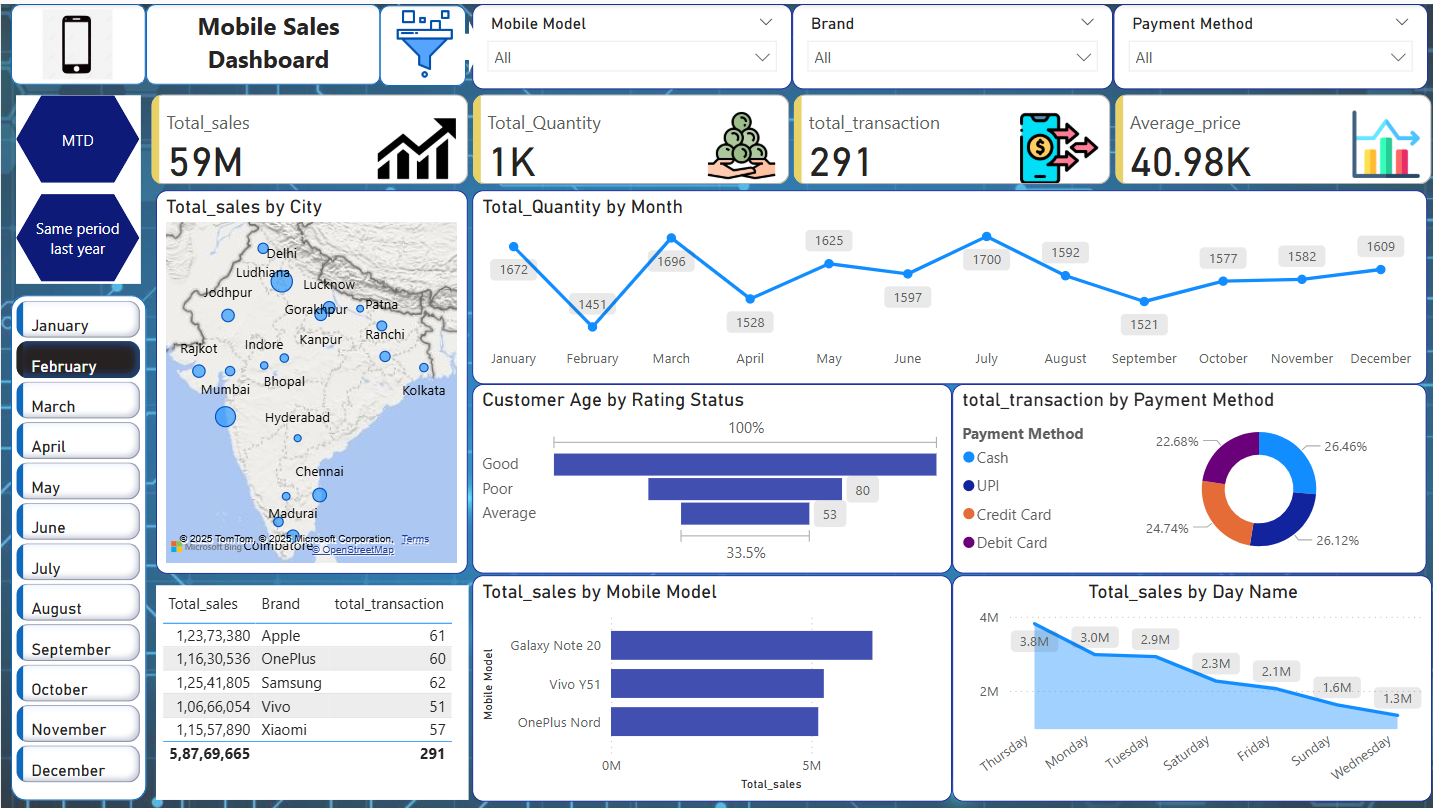

What the dashboard file says about the page in this screenshot:
{"tool":"powerbi","page":{"name":"Dashboard","canvas":[1280,720],"ordinal":0},"visuals":[{"type":"shape","box":[8.4,0,120.6,72.4],"z":0},{"type":"shape","box":[8.4,259.4,120.6,450],"z":1000},{"type":"advancedSlicerVisual","fields":{"Values":["Custom_formula.Date.Variation.Date Hierarchy.Month"]},"box":[8.4,259.4,120.6,450],"z":2000},{"type":"cardVisual","fields":{"Data":["sales_data.Total_sales","sales_data.Total_Quantity","sales_data.total_transaction","sales_data.Average_price"]},"box":[129.1,76,1150.9,90.5],"z":3000},{"type":"shape","box":[129.1,0,208.7,72.4],"z":4000},{"type":"slicer","fields":{"Values":["sales_data.Mobile Model"]},"box":[419.8,0,284.7,76],"z":5000},{"type":"slicer","fields":{"Values":["sales_data.Payment Method"]},"box":[990.5,0,279.9,76],"z":6000},{"type":"slicer","fields":{"Values":["sales_data.Brand"]},"box":[704.6,0,285.9,76],"z":7000},{"type":"shape","box":[337.8,1.2,77.2,72.4],"z":8000},{"type":"image","box":[295.6,0,162.9,71.2],"z":9000},{"type":"shape","box":[405.4,14.5,22.9,47.1],"z":10000},{"type":"textbox","box":[137.5,0,200.3,71.2],"z":11000},{"type":"map","fields":{"Category":["sales_data.City"],"Size":["sales_data.Total_sales"]},"box":[137.5,166.2,277.5,341.2],"z":12000},{"type":"lineChart","fields":{"Y":["sales_data.Total_Quantity"],"Category":["Custom_formula.Date.Variation.Date Hierarchy.Month"]},"box":[420,166.2,850,172.5],"z":13000},{"type":"funnel","title":"Customer Age by Rating Status","fields":{"Category":["sales_data.Rating Status"],"Y":["CountNonNull(sales_data.Customer Age)"]},"box":[420,338.8,427.5,168.8],"z":14000},{"type":"donutChart","fields":{"Y":["sales_data.total_transaction"],"Category":["sales_data.Payment Method"]},"box":[847.5,338.8,422.5,168.8],"z":15000},{"type":"clusteredBarChart","fields":{"Y":["sales_data.Total_sales"],"Category":["sales_data.Mobile Model"]},"box":[420,508.8,427.5,201.2],"z":16000},{"type":"areaChart","fields":{"Category":["Custom_formula.Day Name"],"Y":["sales_data.Total_sales"]},"box":[847.5,508.8,427.5,201.2],"z":17000},{"type":"tableEx","fields":{"Values":["sales_data.Total_sales","sales_data.Brand","sales_data.total_transaction"]},"box":[137.5,517.5,278.8,191.2],"z":18000},{"type":"pageNavigator","box":[13.3,80.8,111,167.7],"z":19000},{"type":"image","box":[3.6,0,129.1,72.4],"z":20000}]}

Visuals, with their boxes in screenshot pixels (x1, y1, x2, y2), scaled from the page's 1280x720 canvas onto the 1433x808 screenshot:
shape: detection(9, 0, 144, 81)
shape: detection(9, 291, 144, 796)
advancedSlicerVisual - Custom_formula.Date.Variation.Date Hierarchy.Month: detection(9, 291, 144, 796)
cardVisual - sales_data.Total_sales x sales_data.Total_Quantity: detection(145, 85, 1432, 187)
shape: detection(145, 0, 378, 81)
slicer - sales_data.Mobile Model: detection(470, 0, 789, 85)
slicer - sales_data.Payment Method: detection(1109, 0, 1422, 85)
slicer - sales_data.Brand: detection(789, 0, 1109, 85)
shape: detection(378, 1, 465, 83)
image: detection(331, 0, 513, 80)
shape: detection(454, 16, 479, 69)
textbox: detection(154, 0, 378, 80)
map - sales_data.City x sales_data.Total_sales: detection(154, 187, 465, 569)
lineChart - sales_data.Total_Quantity x Custom_formula.Date.Variation.Date Hierarchy.Month: detection(470, 187, 1422, 380)
"Customer Age by Rating Status" funnel: detection(470, 380, 949, 570)
donutChart - sales_data.total_transaction x sales_data.Payment Method: detection(949, 380, 1422, 570)
clusteredBarChart - sales_data.Total_sales x sales_data.Mobile Model: detection(470, 571, 949, 797)
areaChart - Custom_formula.Day Name x sales_data.Total_sales: detection(949, 571, 1427, 797)
tableEx - sales_data.Total_sales x sales_data.Brand: detection(154, 581, 466, 795)
pageNavigator: detection(15, 91, 139, 279)
image: detection(4, 0, 149, 81)
